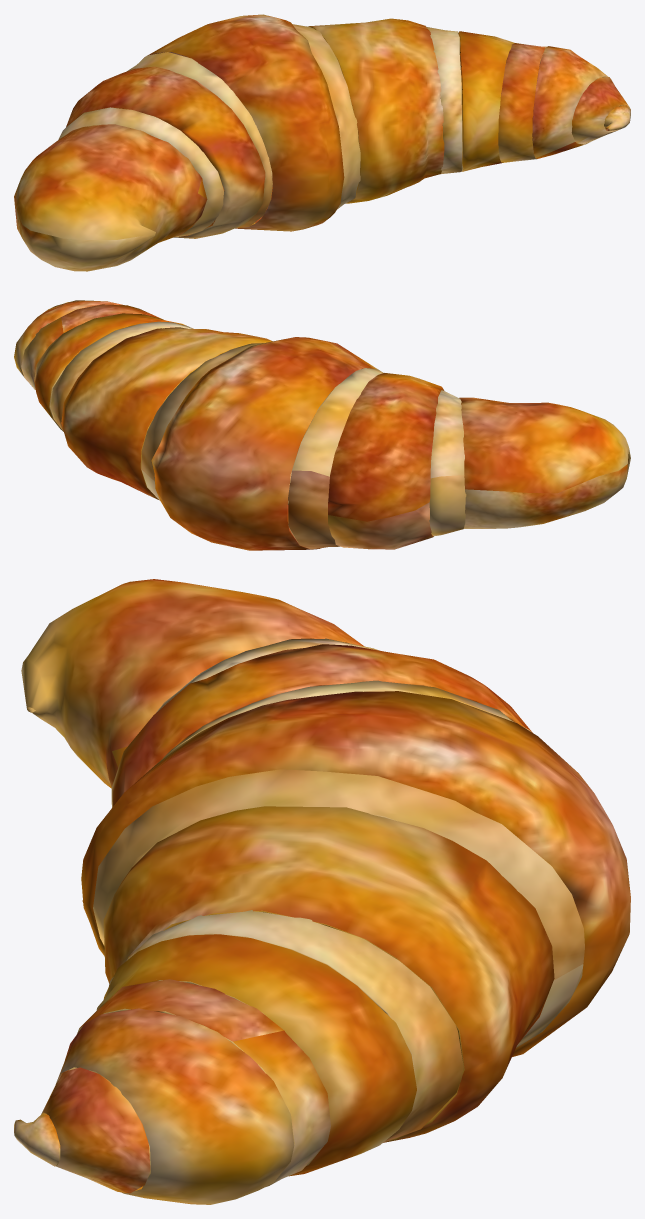
The model's file is croissant.fbx.
3 renders of one model, top to bottom at view 1: azimuth 30°, elevation 25°; view 2: azimuth 150°, elevation 25°; view 3: azimuth 270°, elevation 25°, orthographic. The views are drawn at different scales.
Visible parts, largest first — view 1: Croissant_LD; view 2: Croissant_LD; view 3: Croissant_LD.
Boxes of the visible parts, <box> form: Croissant_LD: <box>14,14,630,271</box>; Croissant_LD: <box>14,300,630,550</box>; Croissant_LD: <box>14,579,630,1204</box>.
Size of the model in its own units: 470 by 136 by 229.
